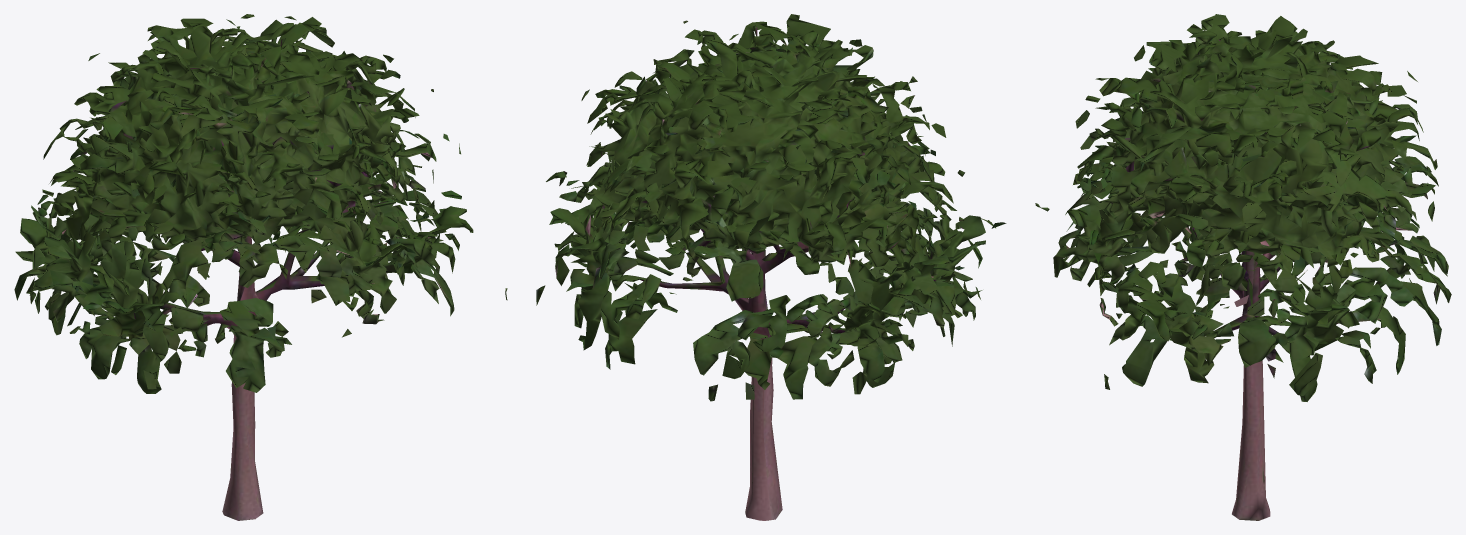
The model's file is g-tropical-tree.glb.
3 views of the same model, side by side, from view 1: azimuth 30°, elevation 25°; view 2: azimuth 150°, elevation 25°; view 3: azimuth 270°, elevation 25° (orthographic). The views are drawn at different scales.
Visible parts, largest first — view 1: world; view 2: world; view 3: world.
Boxes of the visible parts, x1,y1,x2,y2 form: world: [14, 14, 507, 520]; world: [536, 14, 1006, 520]; world: [1035, 14, 1451, 520].
Bounding box in the file's own units: 1.74 × 1.99 × 1.59.
Materials: 1 (1 with a texture image).
